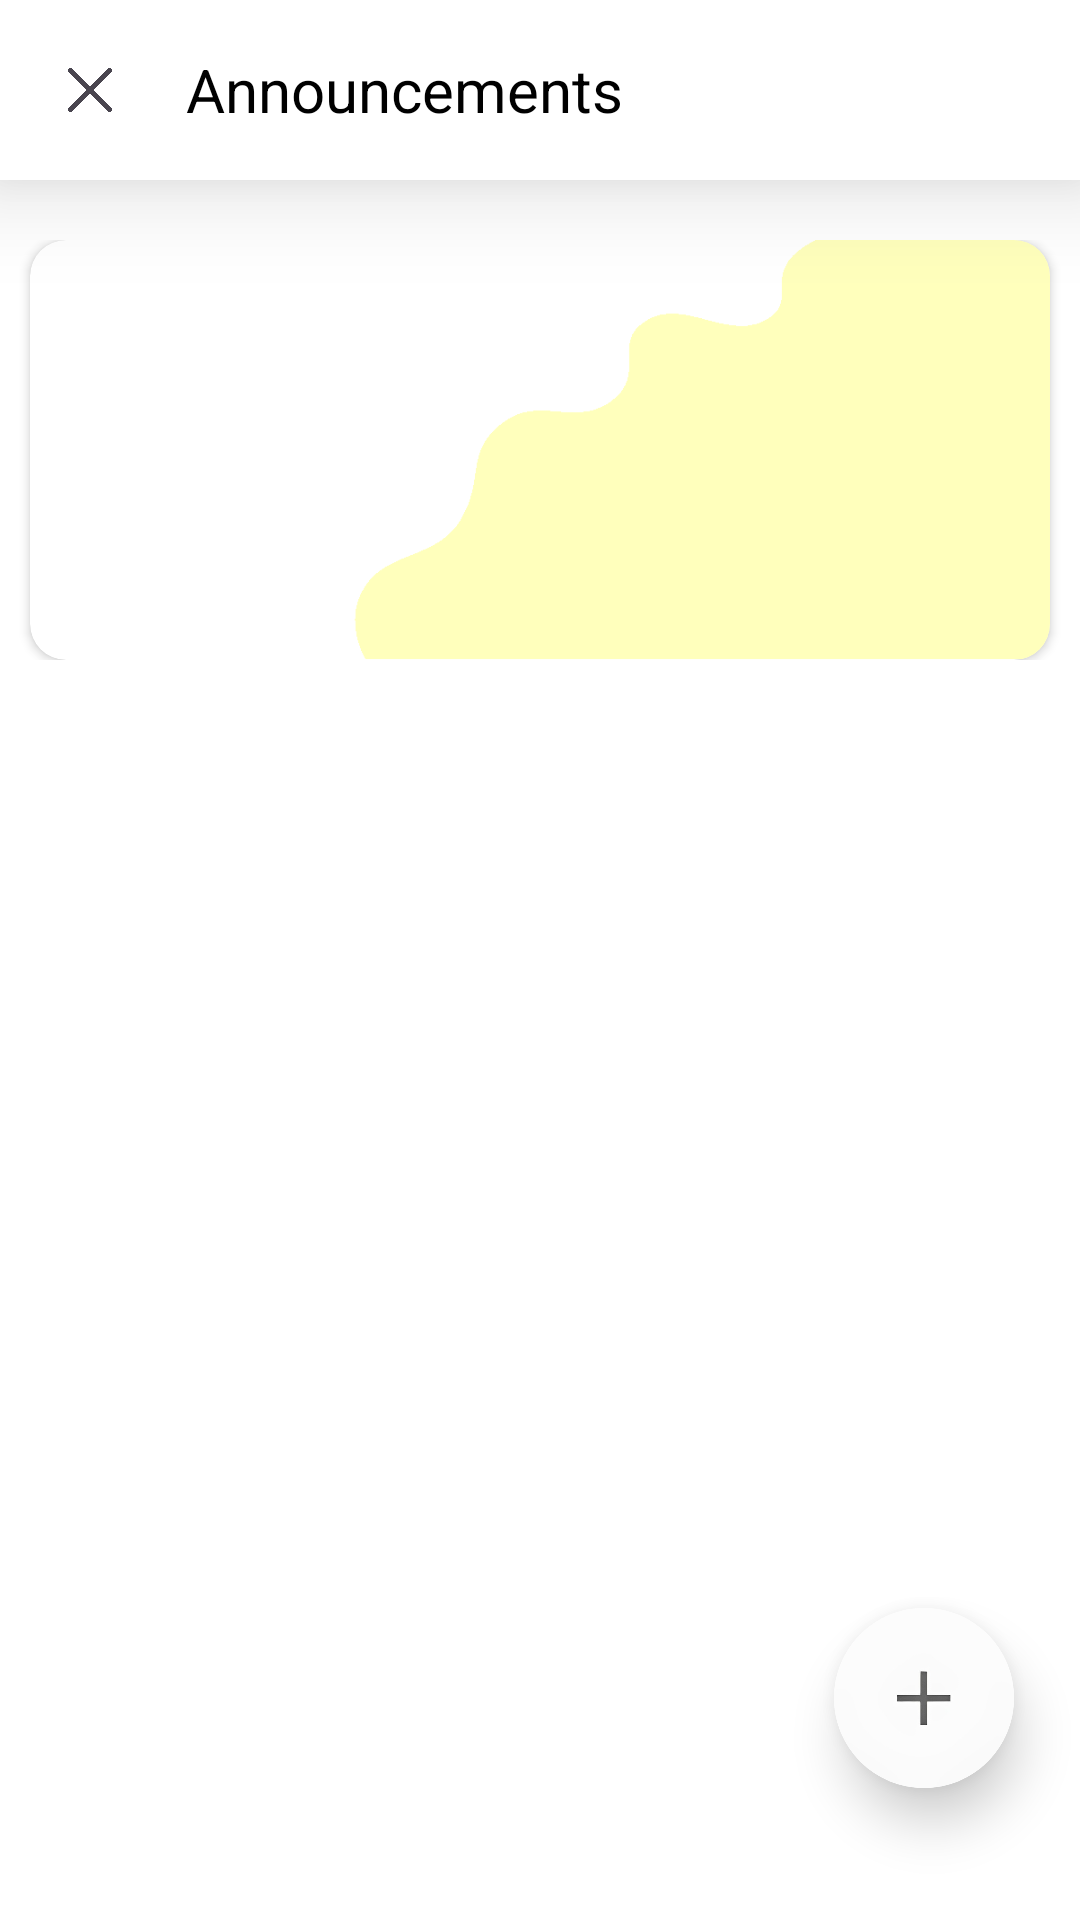

Screen size 1080×1920. Icon name, then its box in pixels as (x1, y1, x2, y2):
plus float: (844, 1671, 1014, 1788)
